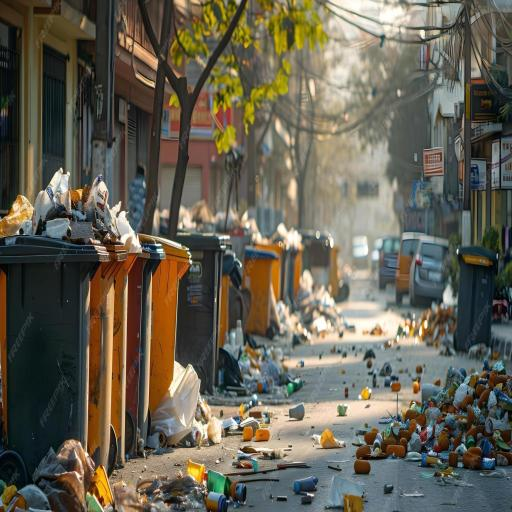contenedor_lleno: (0, 175, 215, 480)
